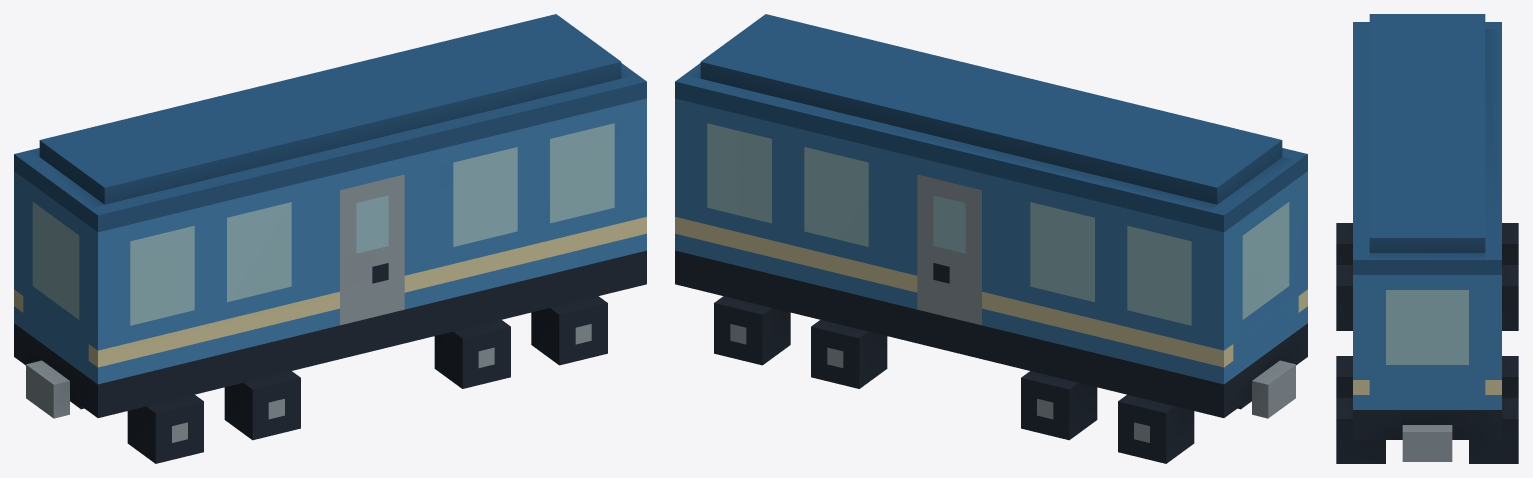
Rendered from train_carriage.glb.
The picture shows the model from 3 angles, left to right: view 1: azimuth 30°, elevation 25°; view 2: azimuth 150°, elevation 25°; view 3: azimuth 270°, elevation 25°; orthographic projection. The views are drawn at different scales.
Parts seen in each view (by area): view 1: train_carriage_body; view 2: train_carriage_body; view 3: train_carriage_body.
Part boxes in pixels (x1,y1,x2,y2): train_carriage_body: (14,14,646,463); train_carriage_body: (675,14,1307,463); train_carriage_body: (1336,14,1518,463).
Bounding box in the file's own units: 3 × 1.33 × 0.9167.
